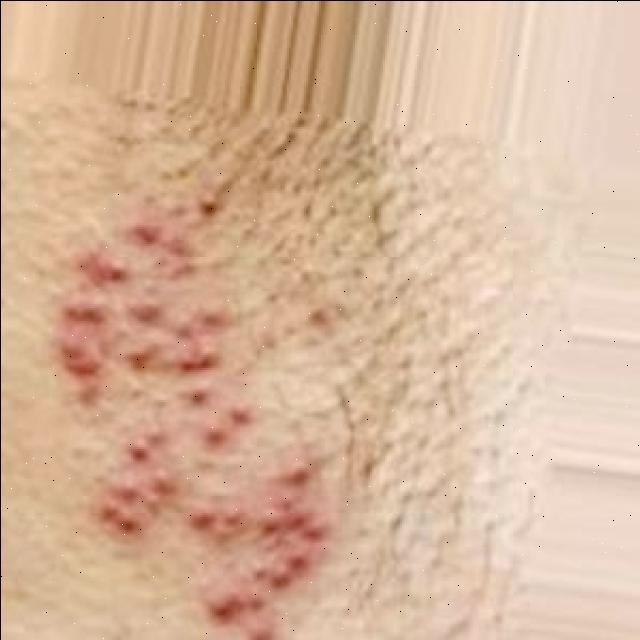Shingles: (53, 205, 333, 640)
